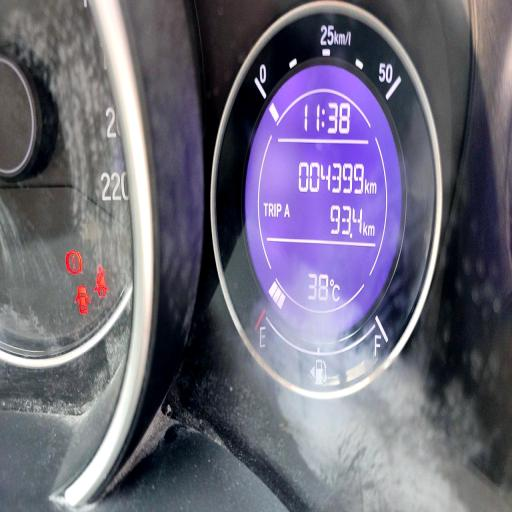belt: (94, 261, 109, 300)
brake_system_fault: (64, 250, 84, 277)
